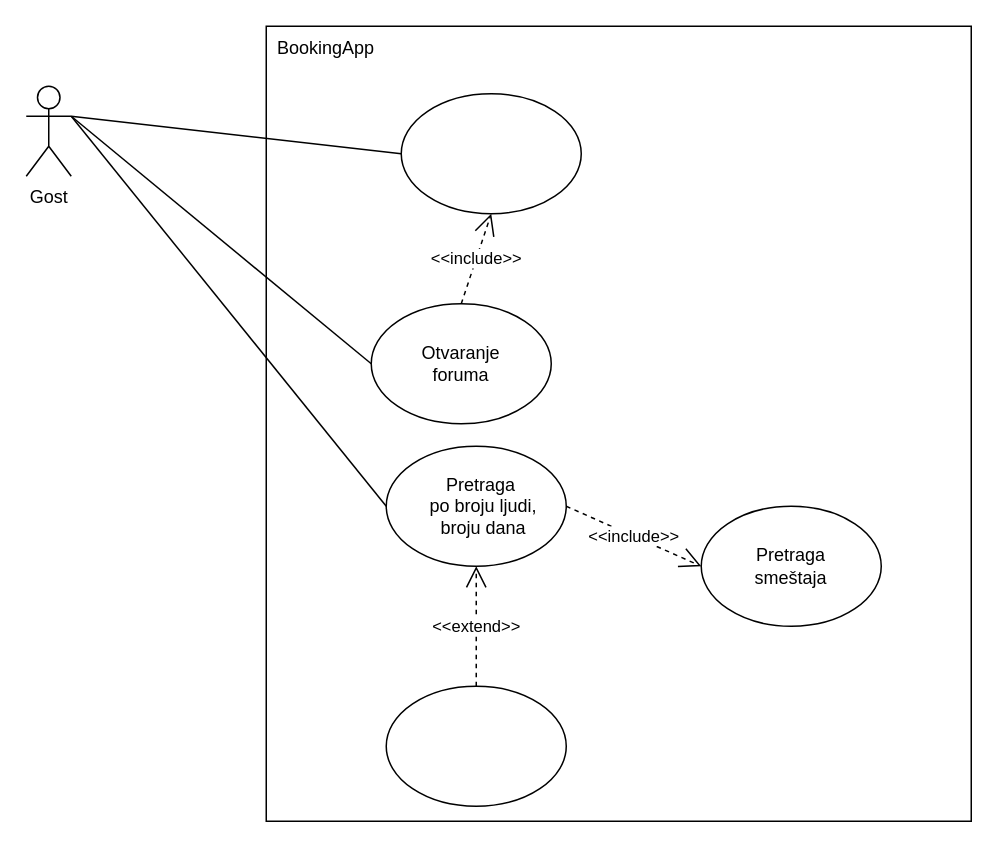
This 998x848 diagram has some shape labels left out. Here are the shapes that lost their labels. From the top down, the centre of each, then its label:
At (490,153): "Ostavljanje komentara na forumu".
At (475,745): "Pretraga po opsegu datuma".
